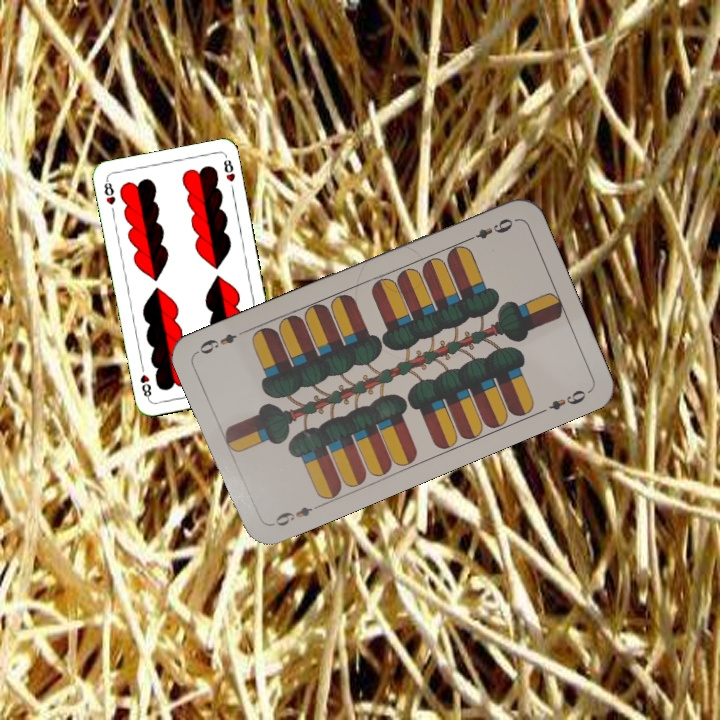E9: (266, 500, 324, 529), (462, 214, 516, 245)
H8: (100, 176, 118, 208)
